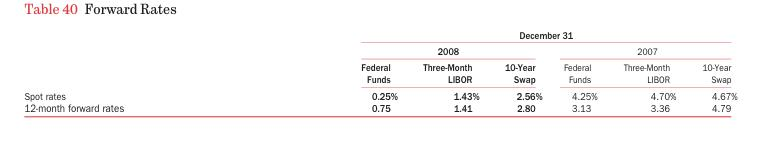table: (23, 28, 736, 113)
table column: (23, 28, 241, 113), (241, 28, 409, 113), (409, 28, 491, 113), (609, 28, 688, 113), (491, 28, 552, 113), (552, 28, 609, 113), (688, 28, 736, 113)
table column header: (23, 28, 736, 87)
table row: (23, 58, 736, 87), (23, 42, 736, 58), (23, 28, 736, 42), (23, 87, 736, 101), (23, 101, 736, 113)
table spanning cell: (241, 28, 736, 42), (241, 42, 552, 58), (552, 42, 736, 58)
